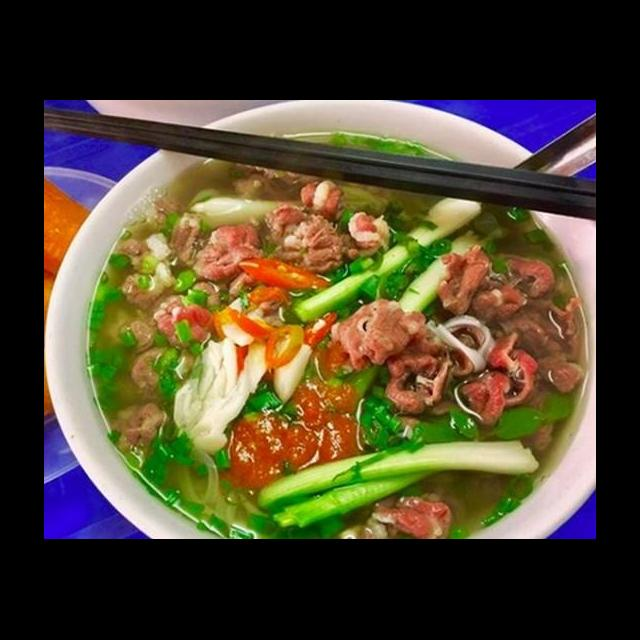thit bo: (428, 238, 590, 398), (322, 292, 496, 419), (263, 173, 393, 274), (163, 205, 272, 312), (448, 326, 544, 434), (117, 310, 200, 400), (334, 486, 460, 540), (151, 276, 228, 346), (114, 230, 174, 312), (111, 398, 177, 469)
